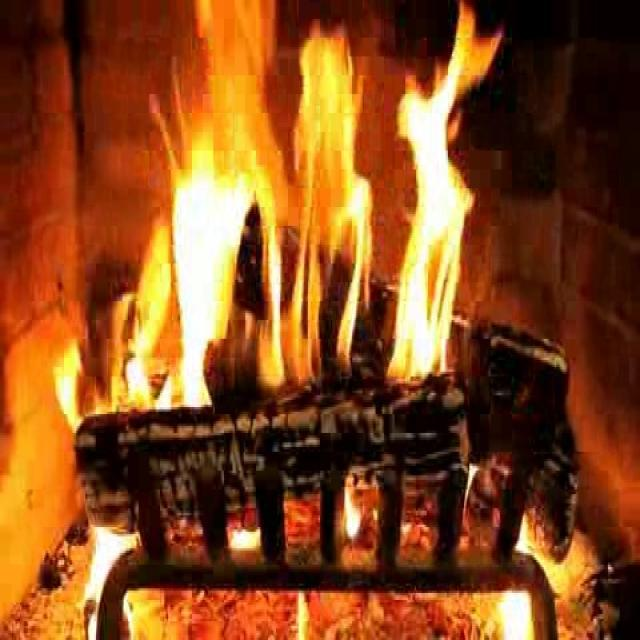fire: (136, 23, 478, 444)
